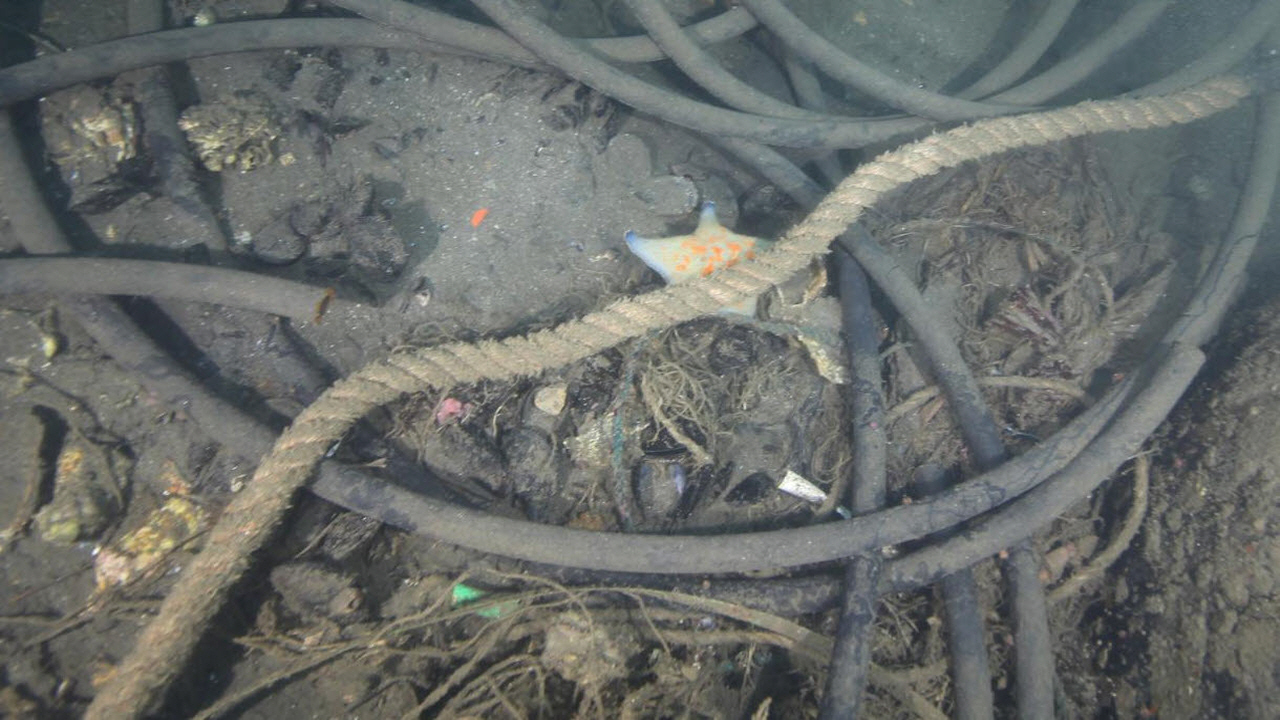rope: (78, 51, 1278, 720)
